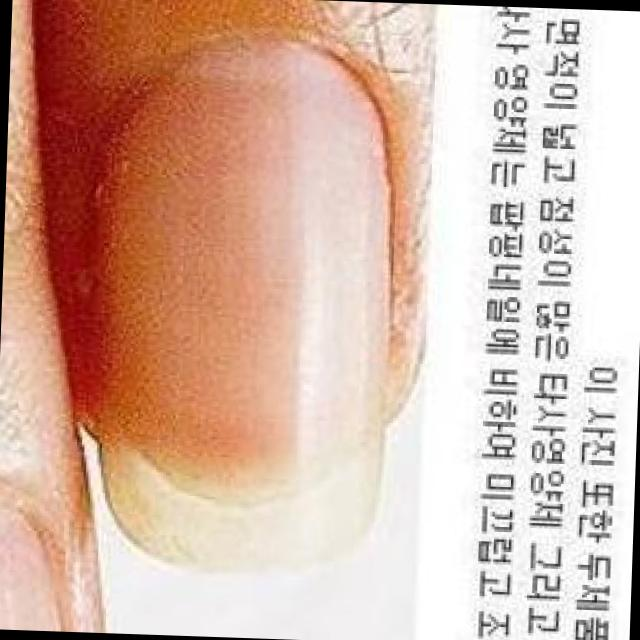Nail: (96, 33, 390, 571)
